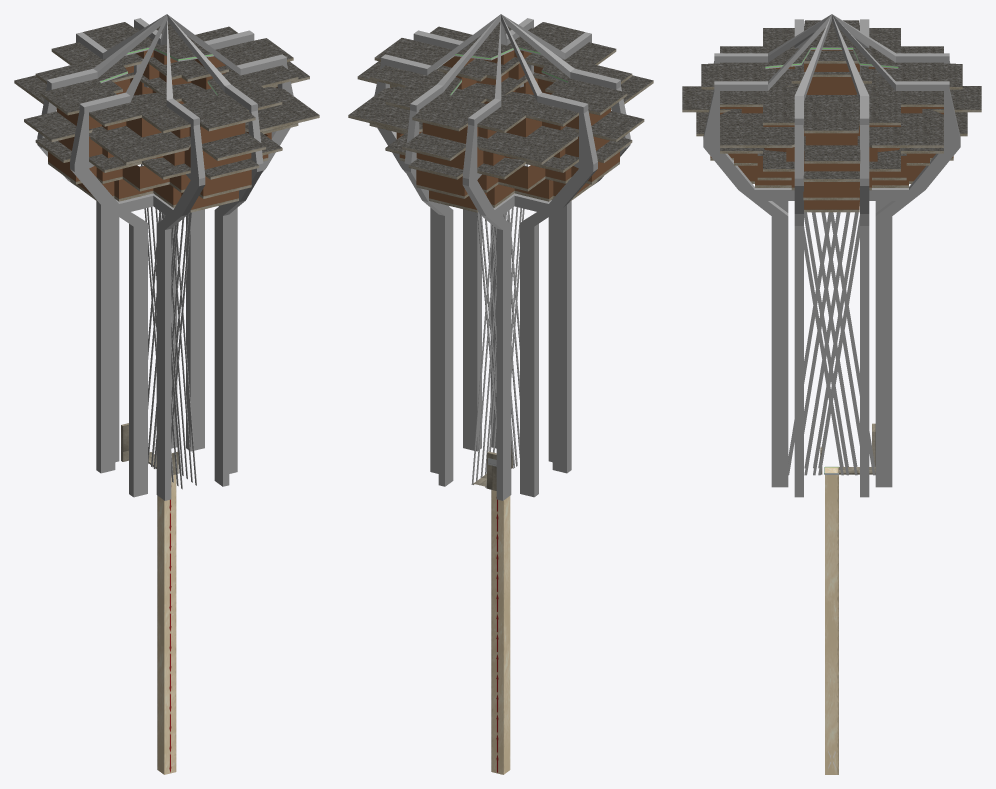
The model's file is Exhibit_Str_Tower_1_Art.fbx.
3 views of the same model, side by side, from view 1: azimuth 30°, elevation 25°; view 2: azimuth 150°, elevation 25°; view 3: azimuth 270°, elevation 25° (orthographic).
Parts seen in each view (by area): view 1: Exhibit_Str_Tower_Pillars_1, Exhibit_Str_Tower_1_Floor_5, Exhibit_Str_Tower_1_Floor_4, Exhibit_Str_Tower_1_Glass, Elevator_Machine, Elevator_Glasswall, Exhibit_Str_Tower_1_Floor_3, Exhibit_Str_Tower_1_Floor_2; view 2: Exhibit_Str_Tower_Pillars_1, Exhibit_Str_Tower_1_Floor_5, Exhibit_Str_Tower_1_Floor_4, Exhibit_Str_Tower_1_Glass, Elevator_Machine, Elevator_Glasswall, Exhibit_Str_Tower_1_Floor_3, Exhibit_Str_Tower_1_Floor_2; view 3: Exhibit_Str_Tower_Pillars_1, Exhibit_Str_Tower_1_Floor_5, Elevator_Glasswall, Exhibit_Str_Tower_1_Floor_4, Exhibit_Str_Tower_1_Glass, Elevator_Machine, Exhibit_Str_Tower_1_Floor_3, Exhibit_Str_Tower_1_Floor_2, Exhibit_Str_Tower_1_Floor_1.
Part boxes in pixels (x1=…): Exhibit_Str_Tower_Pillars_1: x1=37, y1=14, x2=293, y2=500; Exhibit_Str_Tower_1_Floor_5: x1=35, y1=22, x2=298, y2=133; Exhibit_Str_Tower_1_Floor_4: x1=14, y1=53, x2=319, y2=164; Exhibit_Str_Tower_1_Glass: x1=48, y1=50, x2=277, y2=209; Elevator_Machine: x1=157, y1=474, x2=176, y2=774; Elevator_Glasswall: x1=141, y1=164, x2=196, y2=489; Exhibit_Str_Tower_1_Floor_3: x1=35, y1=72, x2=298, y2=179; Exhibit_Str_Tower_1_Floor_2: x1=48, y1=132, x2=268, y2=198; Exhibit_Str_Tower_Pillars_1: x1=374, y1=14, x2=630, y2=500; Exhibit_Str_Tower_1_Floor_5: x1=369, y1=22, x2=632, y2=133; Exhibit_Str_Tower_1_Floor_4: x1=348, y1=53, x2=653, y2=164; Exhibit_Str_Tower_1_Glass: x1=390, y1=50, x2=619, y2=209; Elevator_Machine: x1=491, y1=490, x2=510, y2=774; Elevator_Glasswall: x1=471, y1=164, x2=527, y2=488; Exhibit_Str_Tower_1_Floor_3: x1=369, y1=72, x2=632, y2=179; Exhibit_Str_Tower_1_Floor_2: x1=399, y1=132, x2=619, y2=198; Exhibit_Str_Tower_Pillars_1: x1=703, y1=14, x2=960, y2=497; Exhibit_Str_Tower_1_Floor_5: x1=701, y1=20, x2=962, y2=133; Elevator_Glasswall: x1=788, y1=205, x2=875, y2=475; Exhibit_Str_Tower_1_Floor_4: x1=682, y1=50, x2=981, y2=163; Exhibit_Str_Tower_1_Glass: x1=710, y1=50, x2=953, y2=209; Elevator_Machine: x1=825, y1=467, x2=838, y2=774; Exhibit_Str_Tower_1_Floor_3: x1=696, y1=72, x2=967, y2=181; Exhibit_Str_Tower_1_Floor_2: x1=710, y1=95, x2=953, y2=200; Exhibit_Str_Tower_1_Floor_1: x1=750, y1=137, x2=913, y2=212.
Size of what is drawn, in the model's own units: 3215 by 8994 by 3219.
6 materials, 4 textured.
